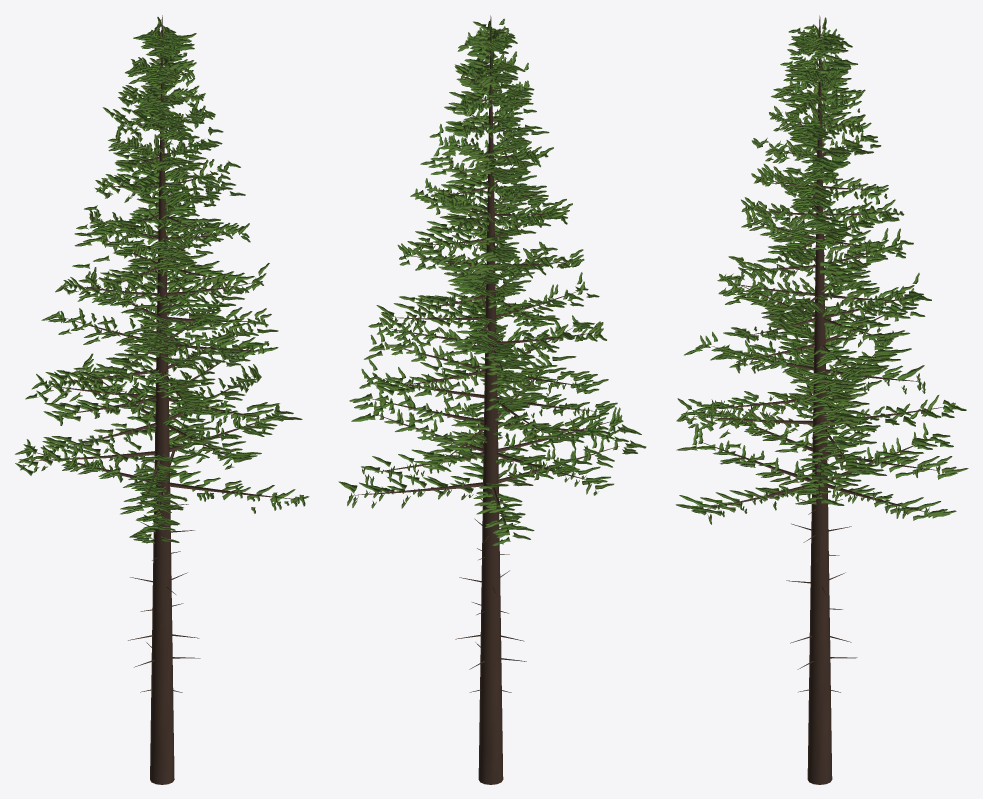
The model's file is SM_Tree_larch_0.glb.
3 views of the same model, side by side, from view 1: azimuth 30°, elevation 25°; view 2: azimuth 150°, elevation 25°; view 3: azimuth 270°, elevation 25° (orthographic).
Parts seen in each view (by area): view 1: SM_Tree_larch_0; view 2: SM_Tree_larch_0; view 3: SM_Tree_larch_0.
Part boxes in pixels (box(x1,y1,x2,y2)): SM_Tree_larch_0: box(15, 15, 309, 784); SM_Tree_larch_0: box(338, 15, 646, 784); SM_Tree_larch_0: box(675, 15, 968, 784).
Bounding box in the file's own units: 6.54 × 18.35 × 6.38.
